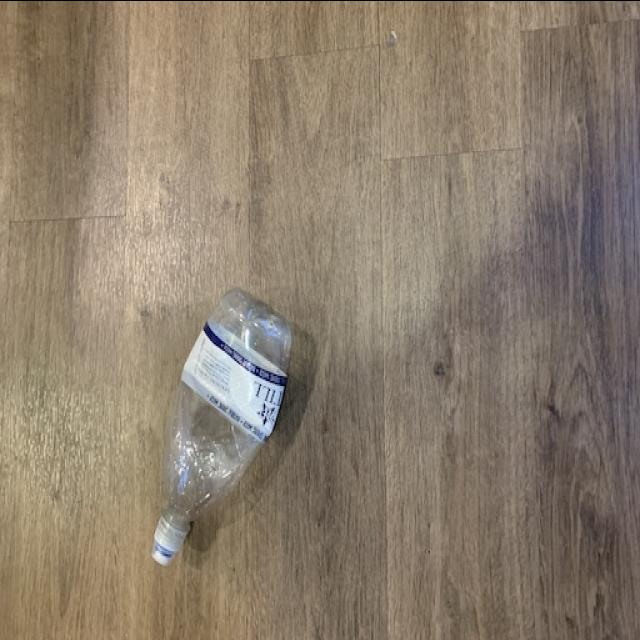litter: (154, 276, 304, 572)
